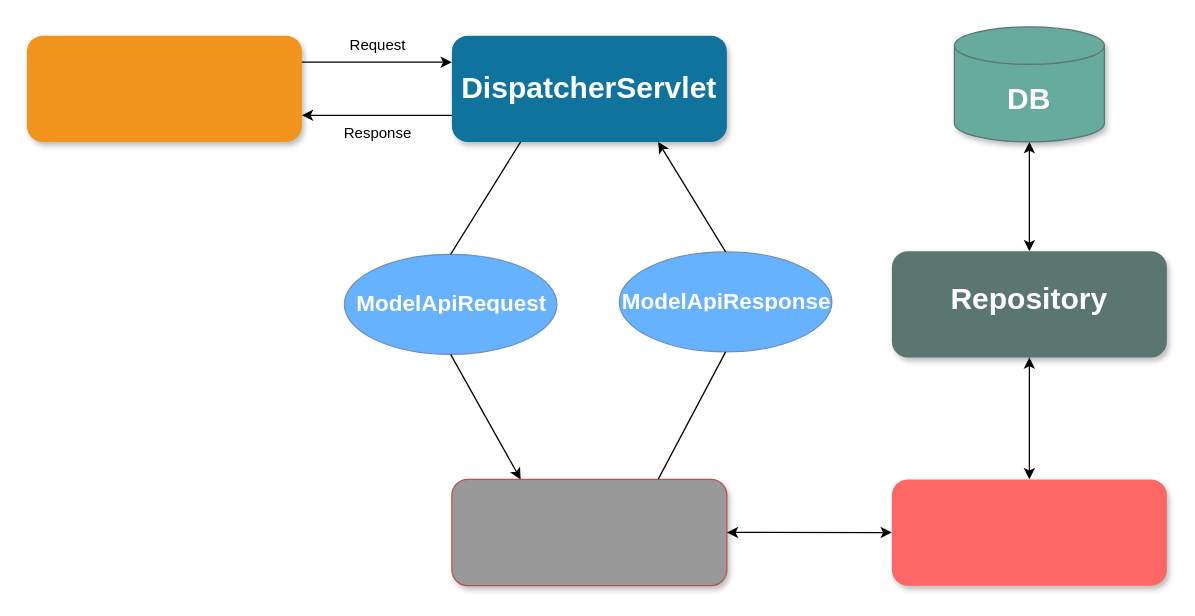
Image size: 1195x616. Some labels were removed from this diagram. Each missing label, with the centre of its shape:
Client: the point at 165,90
Controller: the point at 590,533
Service: the point at 1030,534
